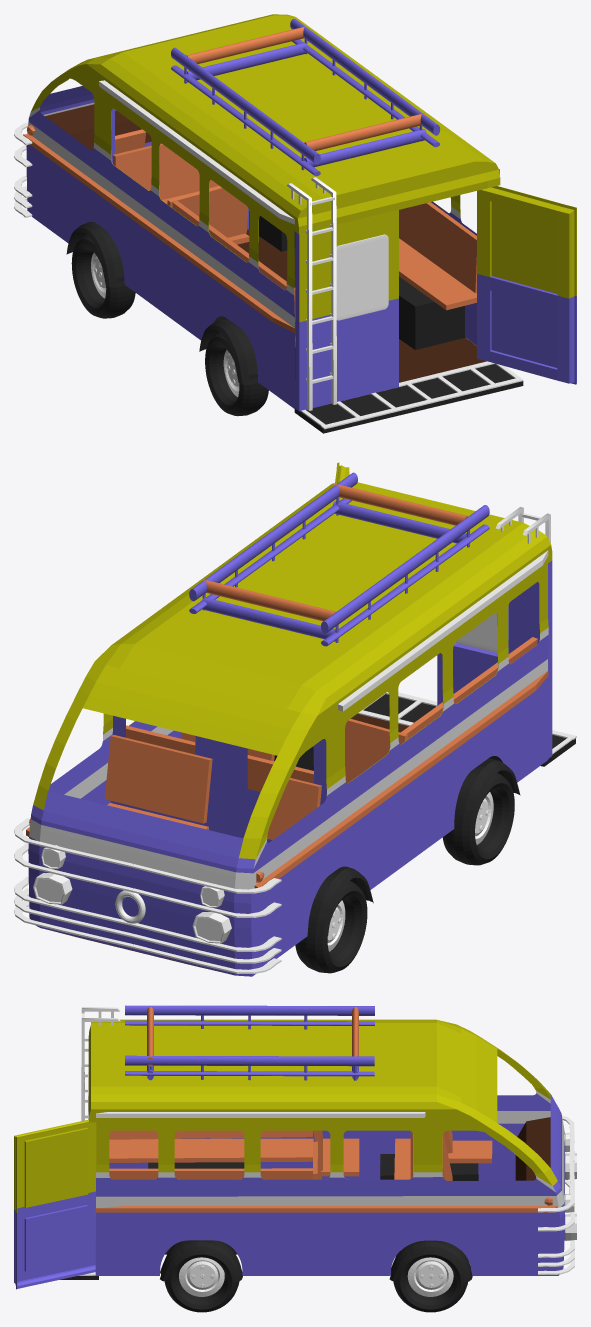
The model's file is carrapide2.glb.
The picture shows the model from 3 angles, top to bottom: view 1: azimuth 30°, elevation 25°; view 2: azimuth 150°, elevation 25°; view 3: azimuth 270°, elevation 25°; orthographic projection. The views are drawn at different scales.
Parts seen in each view (by area): view 1: Carosse, espace Bagages, porte 2 _Material_0, porte 2 _Material.001_0, porte 1 _Material.001_0, object 21, plancher carosse 2 _Material.004_0, porte 1 _Material_0, Glass __0, echelle, plancher carosse, fixe garde boue 3 _Material.004_0 (+14 smaller); view 2: Carosse, espace Bagages, Parchock, object 28, carosserie 2, porte 1 _Material.001_0, Metal lateral gch, Pneux 2, pneux 3, Fares, support rideaux gauche, object 16 (+9 smaller); view 3: Carosse, espace Bagages, porte 2 _Material.001_0, porte 2 _Material_0, object 30, metal lateral droit _Material.005_0, object 21, pneux 4 _Material.004_0, pneux 1 _Material.004_0, support rideau droit __0, Parchock, Jantes 2 __0 (+11 smaller).
Part boxes in pixels (x1,y1,x2,y2): Carosse: (26, 14, 500, 408); espace Bagages: (171, 18, 440, 176); porte 2 _Material_0: (477, 186, 576, 298); porte 2 _Material.001_0: (477, 274, 576, 384); porte 1 _Material.001_0: (295, 232, 398, 411); object 21: (399, 202, 476, 310); plancher carosse 2 _Material.004_0: (294, 364, 523, 433); porte 1 _Material_0: (299, 209, 398, 322); Glass __0: (336, 234, 388, 320); echelle: (286, 177, 336, 410); plancher carosse: (237, 229, 486, 408); fixe garde boue 3 _Material.004_0: (399, 276, 464, 349); Carosse: (28, 482, 552, 976); espace Bagages: (189, 472, 489, 646); Parchock: (14, 818, 281, 973); object 28: (104, 735, 212, 829); carosserie 2: (111, 715, 326, 842); porte 1 _Material.001_0: (437, 560, 552, 758); Metal lateral gch: (254, 671, 548, 893); Pneux 2: (295, 881, 367, 973); pneux 3: (442, 773, 514, 865); Fares: (33, 845, 231, 943); support rideaux gauche: (338, 550, 548, 711); object 16: (345, 718, 407, 783); Carosse: (88, 1019, 564, 1275); espace Bagages: (125, 1005, 374, 1080); porte 2 _Material.001_0: (14, 1191, 95, 1289); porte 2 _Material_0: (14, 1119, 96, 1212); object 30: (109, 1130, 313, 1162); metal lateral droit _Material.005_0: (95, 1206, 557, 1212); object 21: (109, 1168, 313, 1179); pneux 4 _Material.004_0: (164, 1250, 239, 1312); pneux 1 _Material.004_0: (393, 1250, 467, 1312); support rideau droit __0: (96, 1112, 425, 1117); Parchock: (538, 1115, 574, 1274); Jantes 2 __0: (179, 1257, 224, 1296).
Size of the model in its own units: 4.45 by 4.75 by 9.96.
